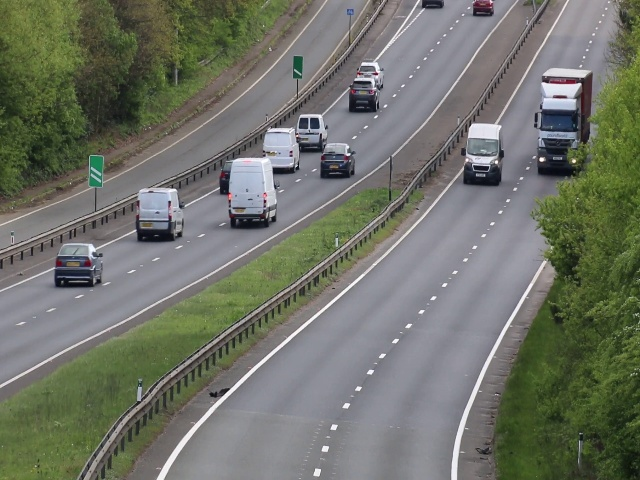car: (539, 69, 591, 174), (229, 158, 278, 226), (135, 187, 185, 241), (464, 121, 504, 187), (54, 241, 104, 289), (262, 127, 301, 171), (294, 110, 329, 150), (319, 143, 357, 178), (347, 77, 380, 111), (357, 61, 384, 85)
